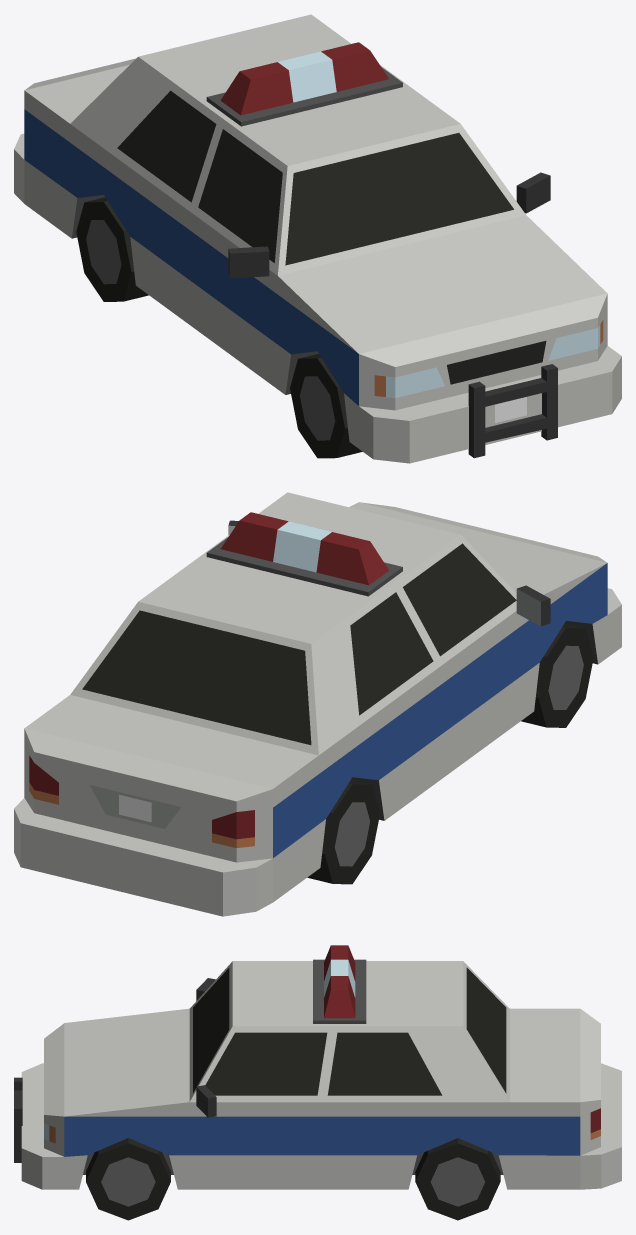
The model's file is Veh_Police_Sedan.glb.
3 views of the same model, one above another, from view 1: azimuth 30°, elevation 25°; view 2: azimuth 150°, elevation 25°; view 3: azimuth 270°, elevation 25° (orthographic). The views are drawn at different scales.
Visible parts, largest first — view 1: Police_Sedan_01, Wheel_FR, Wheel_RR; view 2: Police_Sedan_01, Wheel_RR, Wheel_FR; view 3: Police_Sedan_01, Wheel_RL, Wheel_FL.
Boxes of the visible parts, bbox=[...] form: Police_Sedan_01: bbox=[14, 14, 621, 463]; Wheel_FR: bbox=[290, 353, 362, 458]; Wheel_RR: bbox=[76, 197, 148, 301]; Police_Sedan_01: bbox=[14, 492, 621, 916]; Wheel_RR: bbox=[307, 779, 379, 884]; Wheel_FR: bbox=[521, 623, 593, 727]; Police_Sedan_01: bbox=[14, 945, 621, 1189]; Wheel_RL: bbox=[415, 1138, 500, 1220]; Wheel_FL: bbox=[86, 1138, 170, 1220].
Size of the model in its own units: 1.22 by 0.9735 by 2.61.
1 material, 1 textured.
